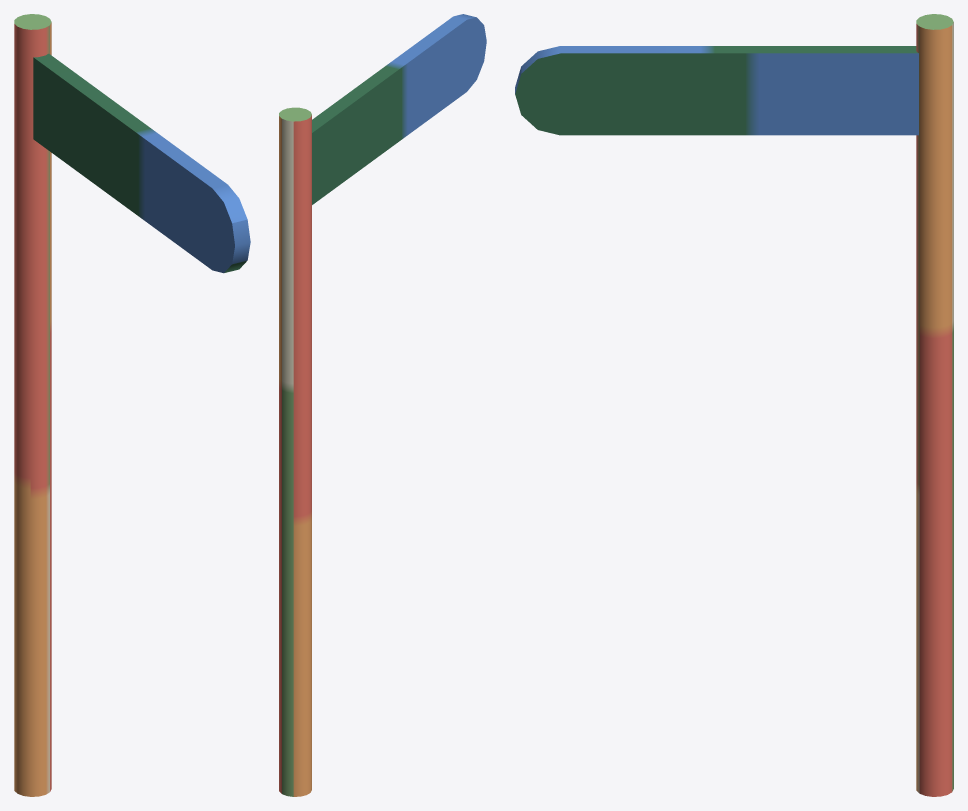
Rendered from RoadSign_03.fbx.
The picture shows the model from 3 angles, left to right: view 1: azimuth 30°, elevation 25°; view 2: azimuth 150°, elevation 25°; view 3: azimuth 270°, elevation 25°; orthographic projection. The views are drawn at different scales.
Parts seen in each view (by area): view 1: pCube157; view 2: pCube157; view 3: pCube157.
Boxes of the visible parts, <box> form: pCube157: <box>14,14,250,796</box>; pCube157: <box>279,14,486,796</box>; pCube157: <box>515,14,953,796</box>.
Bounding box in the file's own units: 0.097 × 2.19 × 1.13.
Materials: 1 (1 with a texture image).
